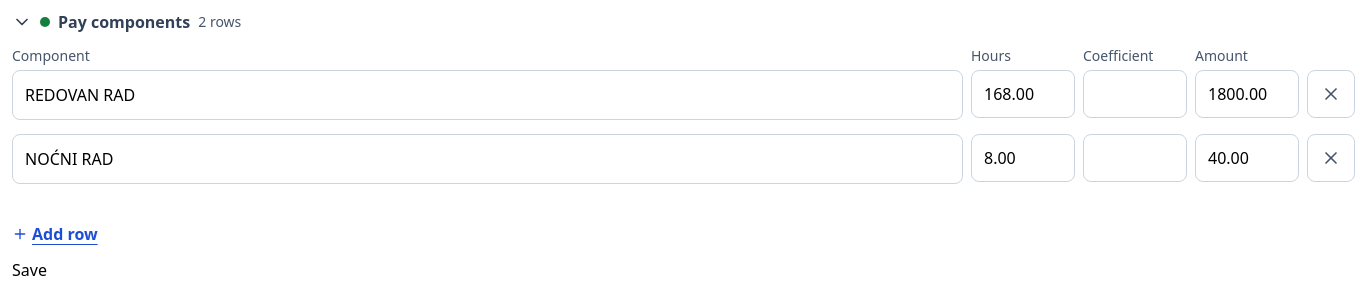
LineItemSection › saves on Enter in a desktop text cell instead of adding a line break
This screenshot has width=1372, height=293.
Type "X" into the text box named "Component, Pay components row 1" at (488, 95), box x1=12 y1=70 x2=963 y2=120
Then press Enter
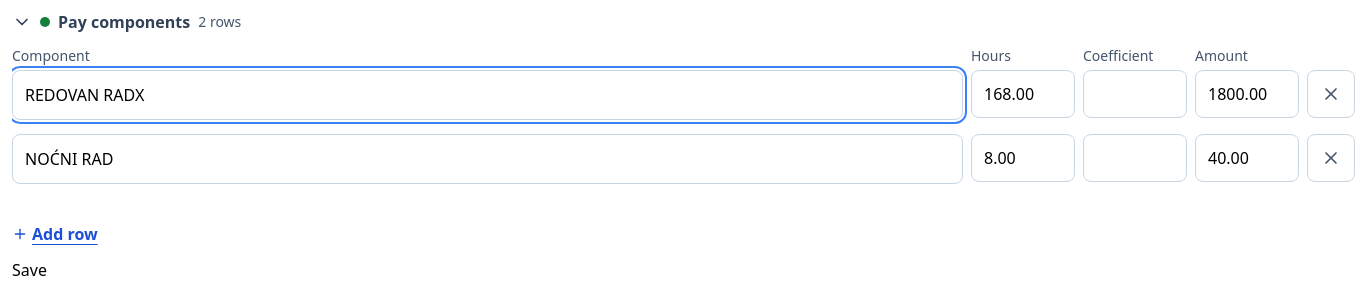
Check: the text box named "Component, Pay components row 1" holds "REDOVAN RADX", box x1=12 y1=70 x2=963 y2=120
